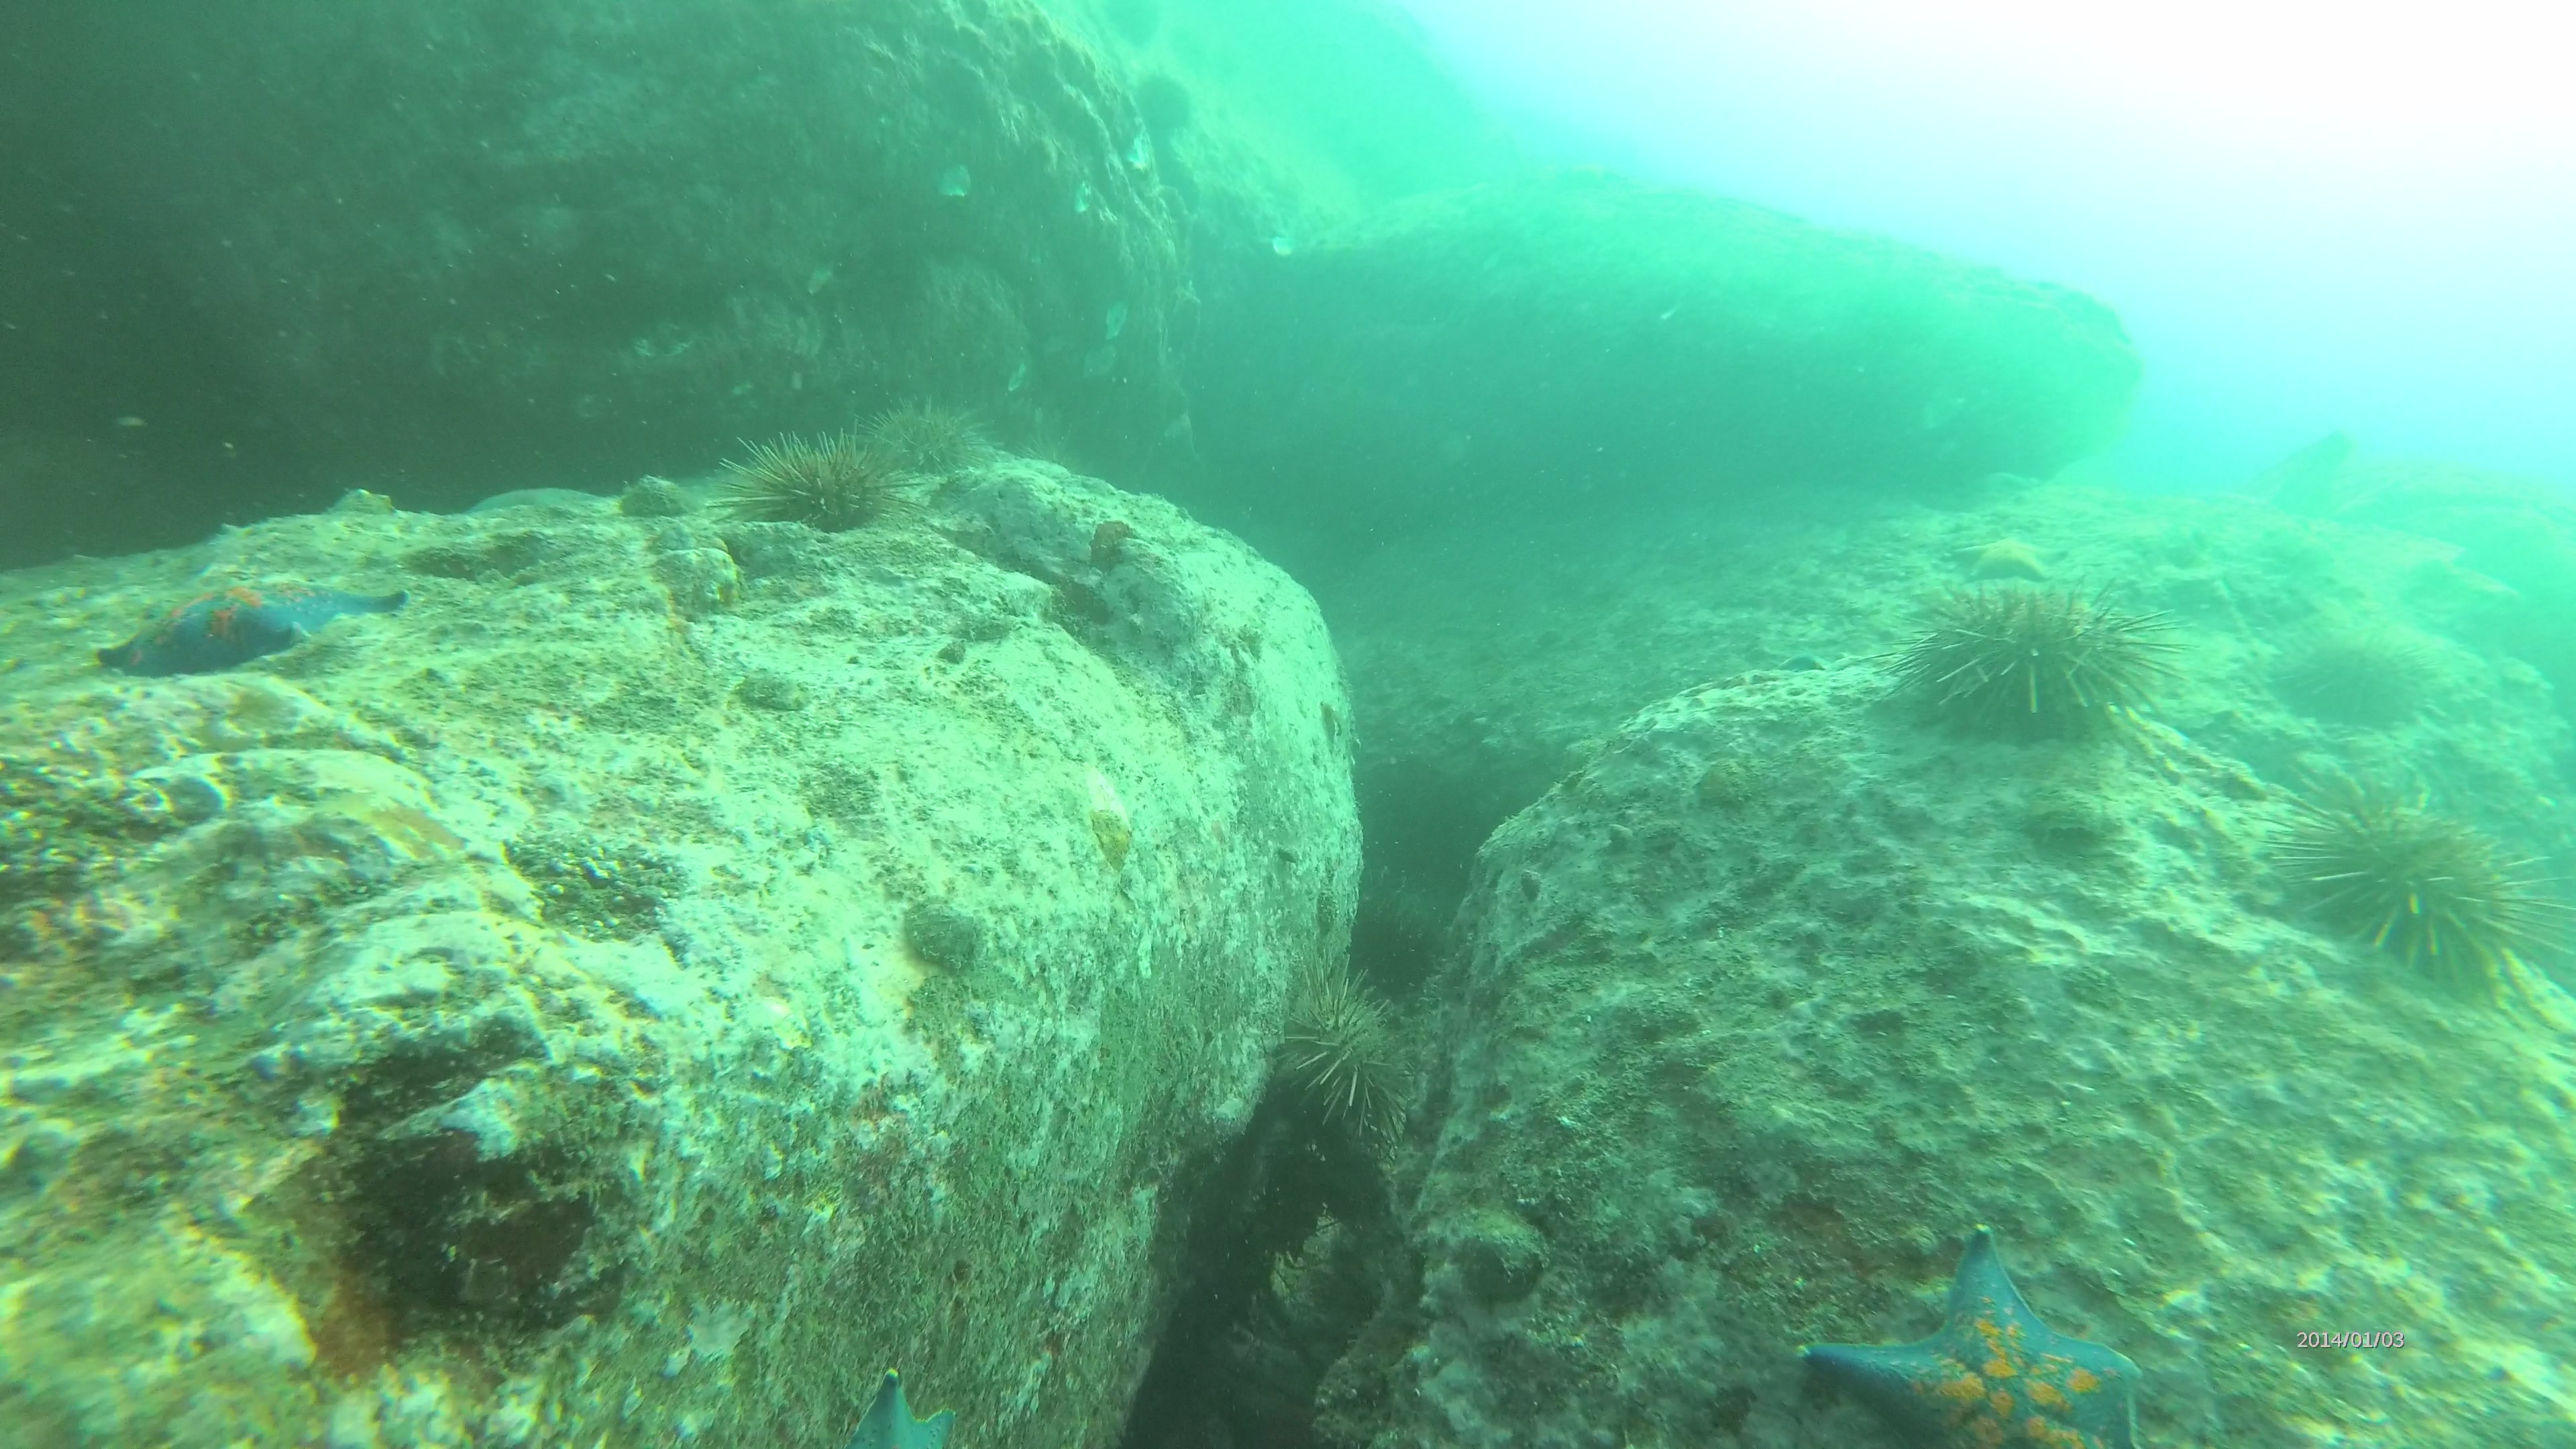echinus: (2266, 768, 2572, 1003), (1881, 582, 2181, 743), (1274, 945, 1428, 1175), (708, 430, 916, 538), (853, 398, 994, 481)
starfish: (1792, 1221, 2144, 1449), (99, 571, 407, 681), (833, 1359, 957, 1449)
